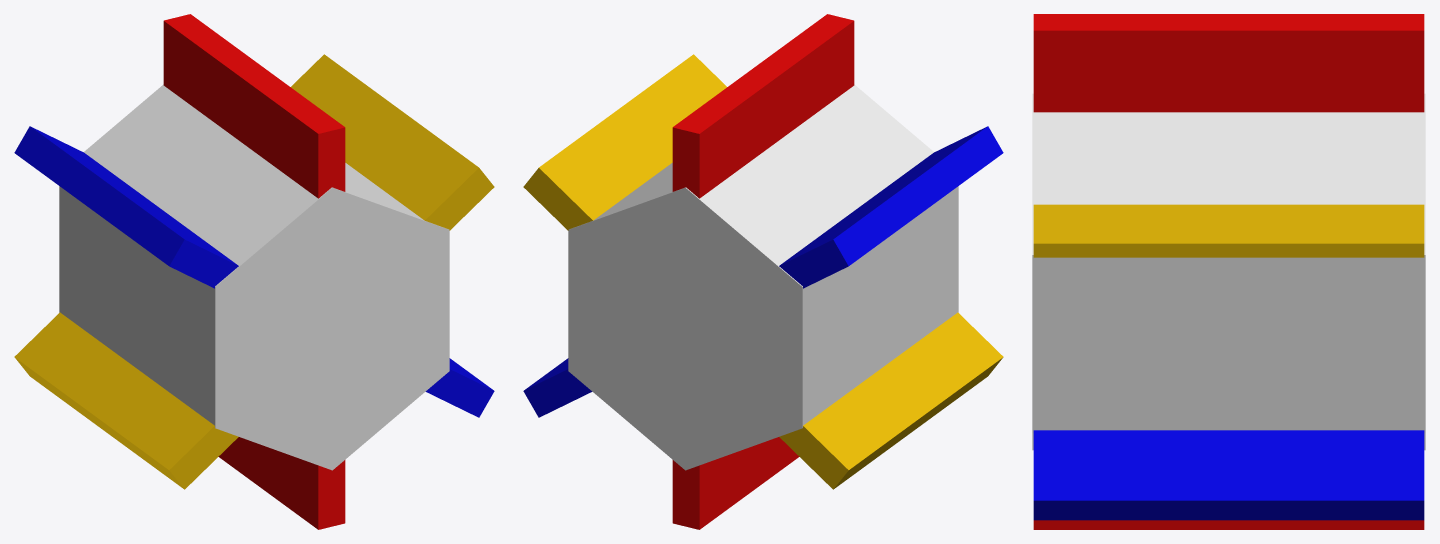
The model's file is piece.fbx.
3 renders of one model, left to right at view 1: azimuth 30°, elevation 25°; view 2: azimuth 150°, elevation 25°; view 3: azimuth 270°, elevation 25°, orthographic. The views are drawn at different scales.
Visible parts, largest first — view 1: 円柱, 立方体.001, 立方体, 立方体.002; view 2: 円柱, 立方体.001, 立方体, 立方体.002; view 3: 円柱, 立方体, 立方体.002, 立方体.001.
Boxes of the visible parts, x1=… form: 円柱: x1=59, y1=84, x2=449, y2=470; 立方体.001: x1=14, y1=54, x2=494, y2=489; 立方体: x1=163, y1=14, x2=345, y2=529; 立方体.002: x1=14, y1=126, x2=494, y2=417; 円柱: x1=568, y1=84, x2=958, y2=470; 立方体.001: x1=523, y1=54, x2=1003, y2=489; 立方体: x1=672, y1=14, x2=854, y2=529; 立方体.002: x1=523, y1=126, x2=1003, y2=417; 円柱: x1=1032, y1=93, x2=1425, y2=450; 立方体: x1=1033, y1=14, x2=1424, y2=529; 立方体.002: x1=1033, y1=430, x2=1424, y2=520; 立方体.001: x1=1033, y1=204, x2=1424, y2=257.
Bounding box in the file's own units: 241 × 280 × 200.
